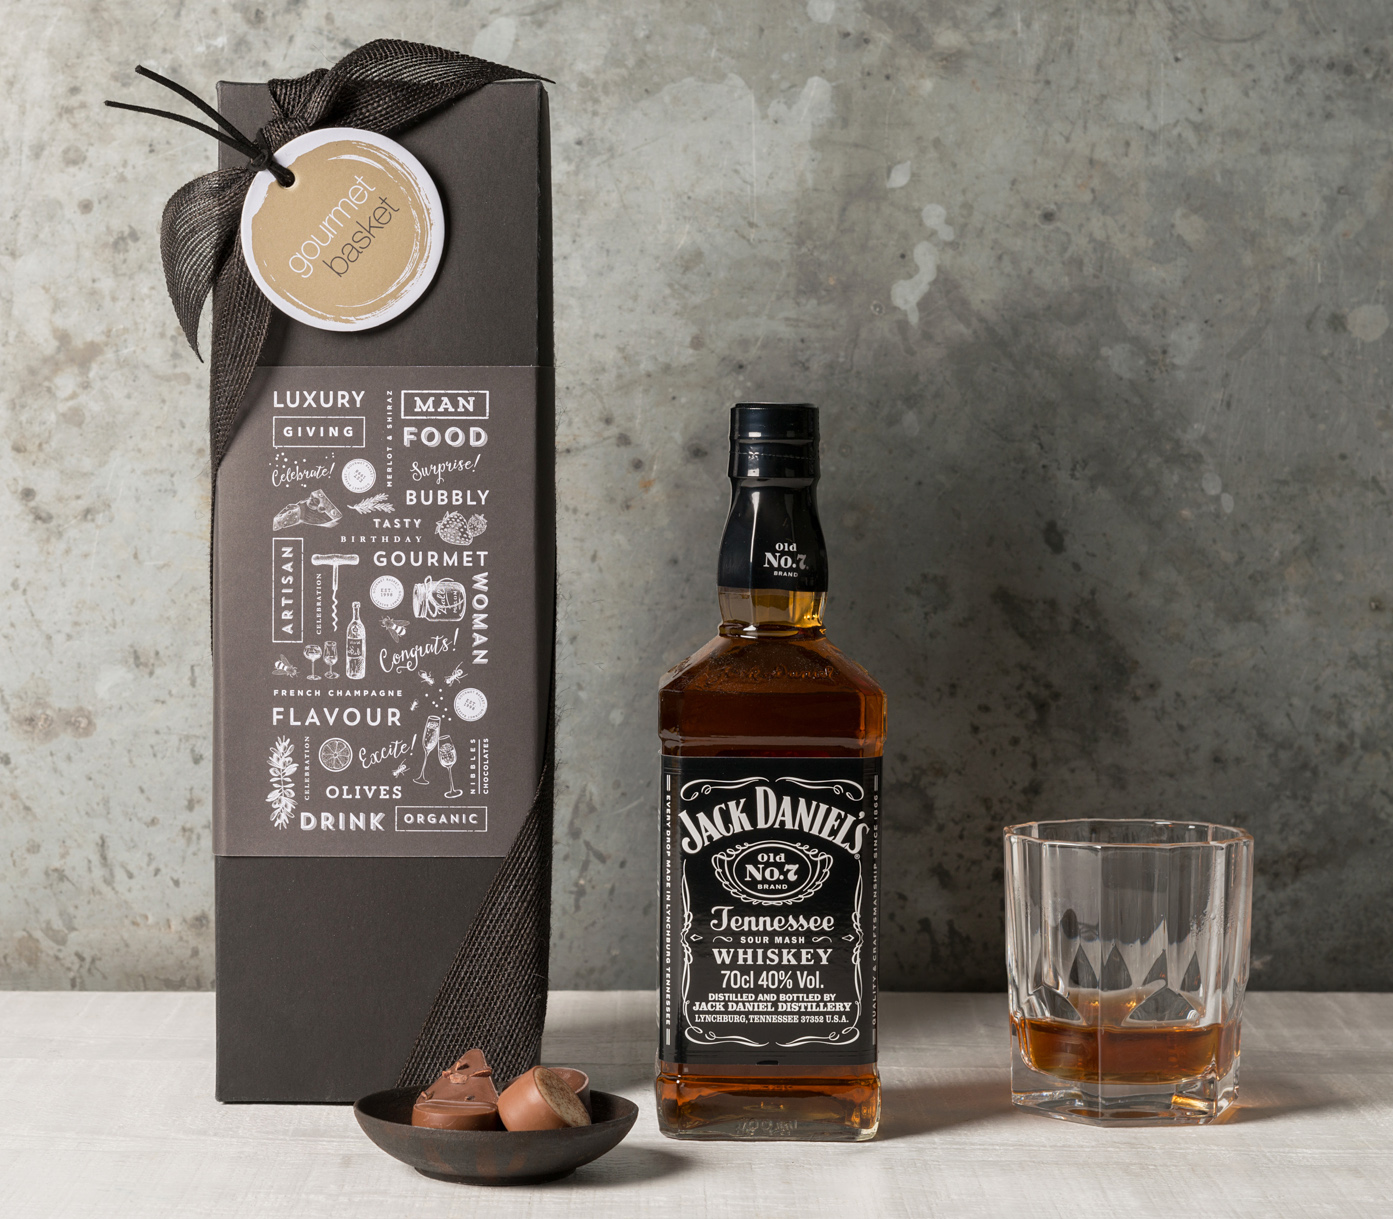Jack Daniel: (624, 381, 911, 1160)
